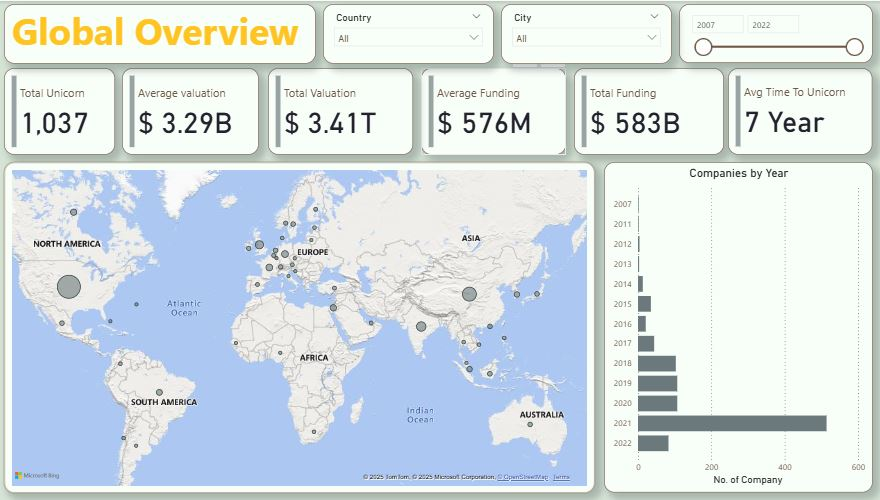

This screenshot's page, from the dashboard's own definition file:
{"tool":"powerbi","page":{"name":"Global View","canvas":[1280,720],"ordinal":1},"visuals":[{"type":"cardVisual","fields":{"Data":["Table.Total Unicorn"]},"box":[11.5,96.5,159.8,125.3],"z":0},{"type":"cardVisual","fields":{"Data":["Table.Average valuation"]},"box":[181.4,96.5,197.3,125.3],"z":1000},{"type":"cardVisual","fields":{"Data":["Table.Average Funding"]},"box":[612,96.5,208.8,125.3],"z":2000},{"type":"cardVisual","fields":{"Data":["Table.Total Valuation"]},"box":[391.7,96.5,208.8,125.3],"z":3000},{"type":"cardVisual","fields":{"Data":["Table.Total Funding"]},"box":[832.3,96.5,216,125.3],"z":4000},{"type":"cardVisual","fields":{"Data":["Table.Avg Time To Unicorn"]},"box":[1054.5,96.4,208.3,124.7],"z":5000},{"type":"slicer","fields":{"Values":["Unicorn_Companies.Date Joined.Variation.Date Hierarchy.Year"]},"box":[983.5,4.3,279.4,85],"z":6000},{"type":"map","fields":{"Category":["Unicorn_Companies.Country"],"Size":["CountNonNull(Unicorn_Companies.Company)"]},"box":[11.5,231.8,851,476.6],"z":7000},{"type":"barChart","fields":{"Category":["Unicorn_Companies.Date Joined.Variation.Date Hierarchy.Year"],"Y":["CountNonNull(Unicorn_Companies.Company)"]},"box":[875.9,232.4,386.9,476.2],"z":8000},{"type":"textbox","box":[11.5,4.3,449.3,86.4],"z":9000},{"type":"slicer","fields":{"Values":["Unicorn_Companies.Country"]},"box":[470.9,4.3,246.2,86.4],"z":10000},{"type":"slicer","fields":{"Values":["Unicorn_Companies.City"]},"box":[727.2,4.3,246.2,86.4],"z":11000},{"type":"shape","box":[11.5,7.2,449.3,82.1],"z":12000}]}

Visuals, with their boxes in screenshot pixels (x1, y1, x2, y2), scaled from the page's 1280x720 canvas onto the 880x500 screenshot:
cardVisual - Table.Total Unicorn: pyautogui.locateOnScreen(8, 67, 118, 154)
cardVisual - Table.Average valuation: pyautogui.locateOnScreen(125, 67, 260, 154)
cardVisual - Table.Average Funding: pyautogui.locateOnScreen(421, 67, 564, 154)
cardVisual - Table.Total Valuation: pyautogui.locateOnScreen(269, 67, 413, 154)
cardVisual - Table.Total Funding: pyautogui.locateOnScreen(572, 67, 721, 154)
cardVisual - Table.Avg Time To Unicorn: pyautogui.locateOnScreen(725, 67, 868, 154)
slicer - Unicorn_Companies.Date Joined.Variation.Date Hierarchy.Year: pyautogui.locateOnScreen(676, 3, 868, 62)
map - Unicorn_Companies.Country x CountNonNull(Unicorn_Companies.Company): pyautogui.locateOnScreen(8, 161, 593, 492)
barChart - Unicorn_Companies.Date Joined.Variation.Date Hierarchy.Year x CountNonNull(Unicorn_Companies.Company): pyautogui.locateOnScreen(602, 161, 868, 492)
textbox: pyautogui.locateOnScreen(8, 3, 317, 63)
slicer - Unicorn_Companies.Country: pyautogui.locateOnScreen(324, 3, 493, 63)
slicer - Unicorn_Companies.City: pyautogui.locateOnScreen(500, 3, 669, 63)
shape: pyautogui.locateOnScreen(8, 5, 317, 62)
